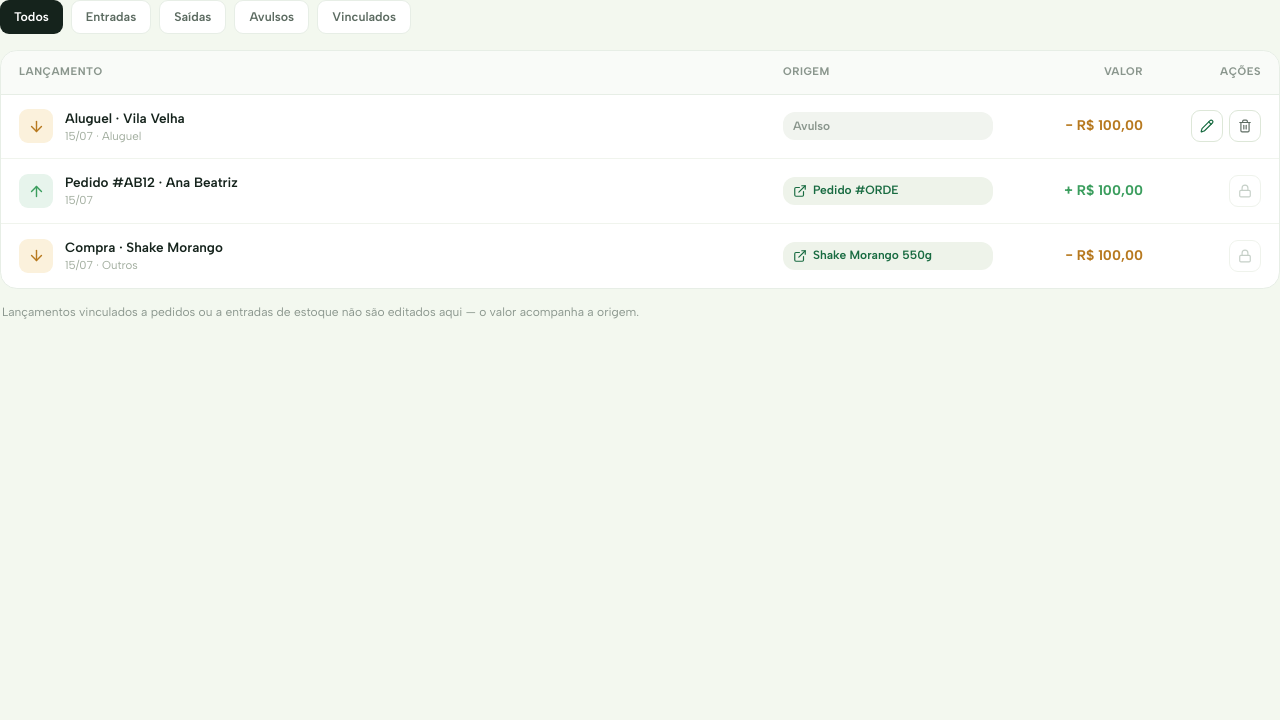
Test: MovimentacoesClient › clicking an avulso row opens the edit sheet
The image size is (1280, 720).
Click the text "Aluguel · Vila Velha": (125, 118) [65,108,185,128]
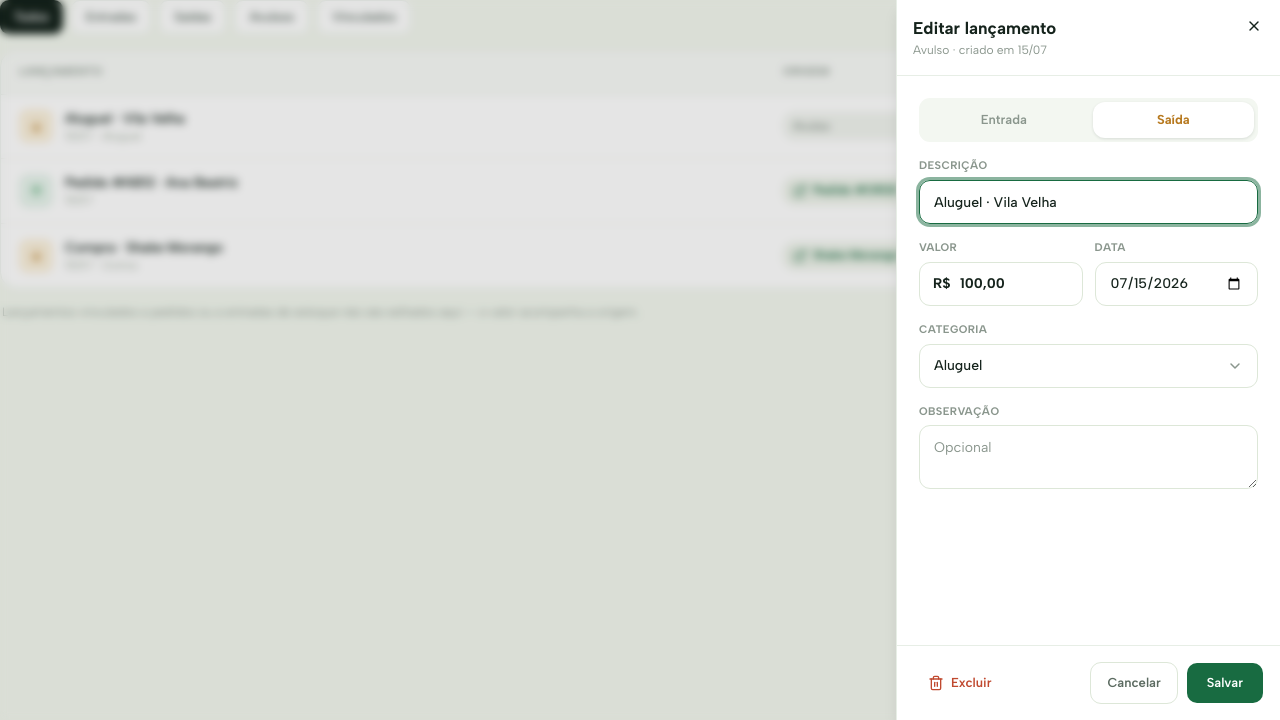
Check: the heading "Editar lançamento" is shown, box [913,18,1056,38]
